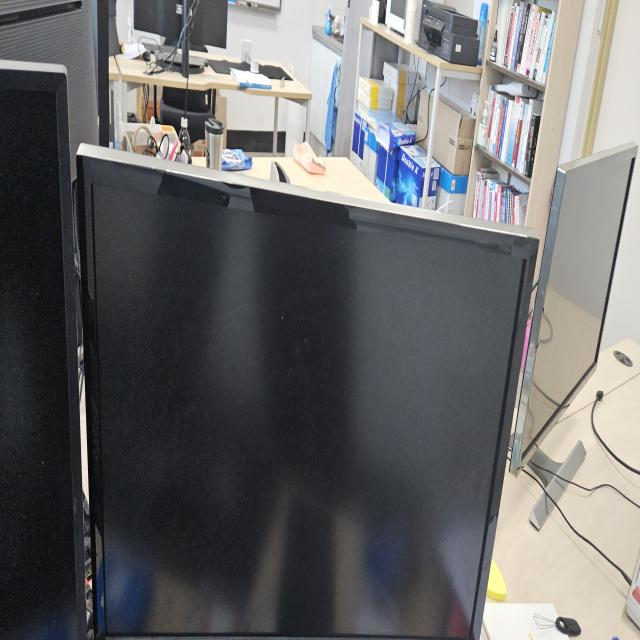Monitor: (74, 136, 539, 635)
